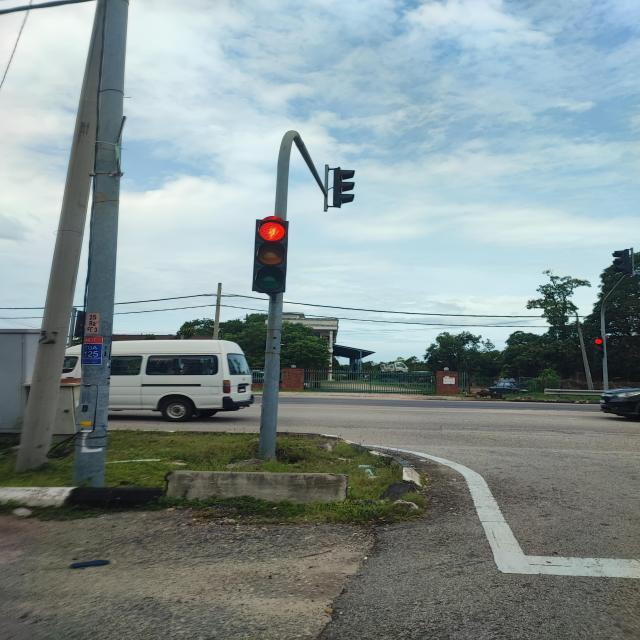Red: (252, 216, 289, 292), (594, 338, 604, 358)
